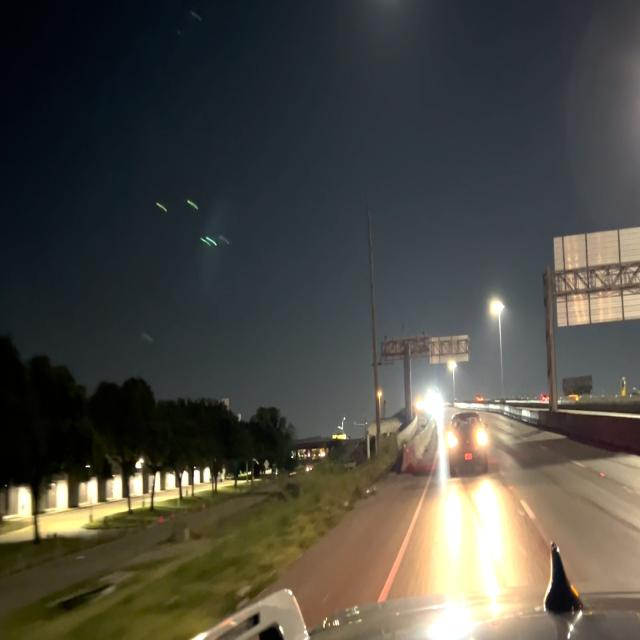back-of-sign: (551, 225, 640, 331), (427, 328, 472, 366)
